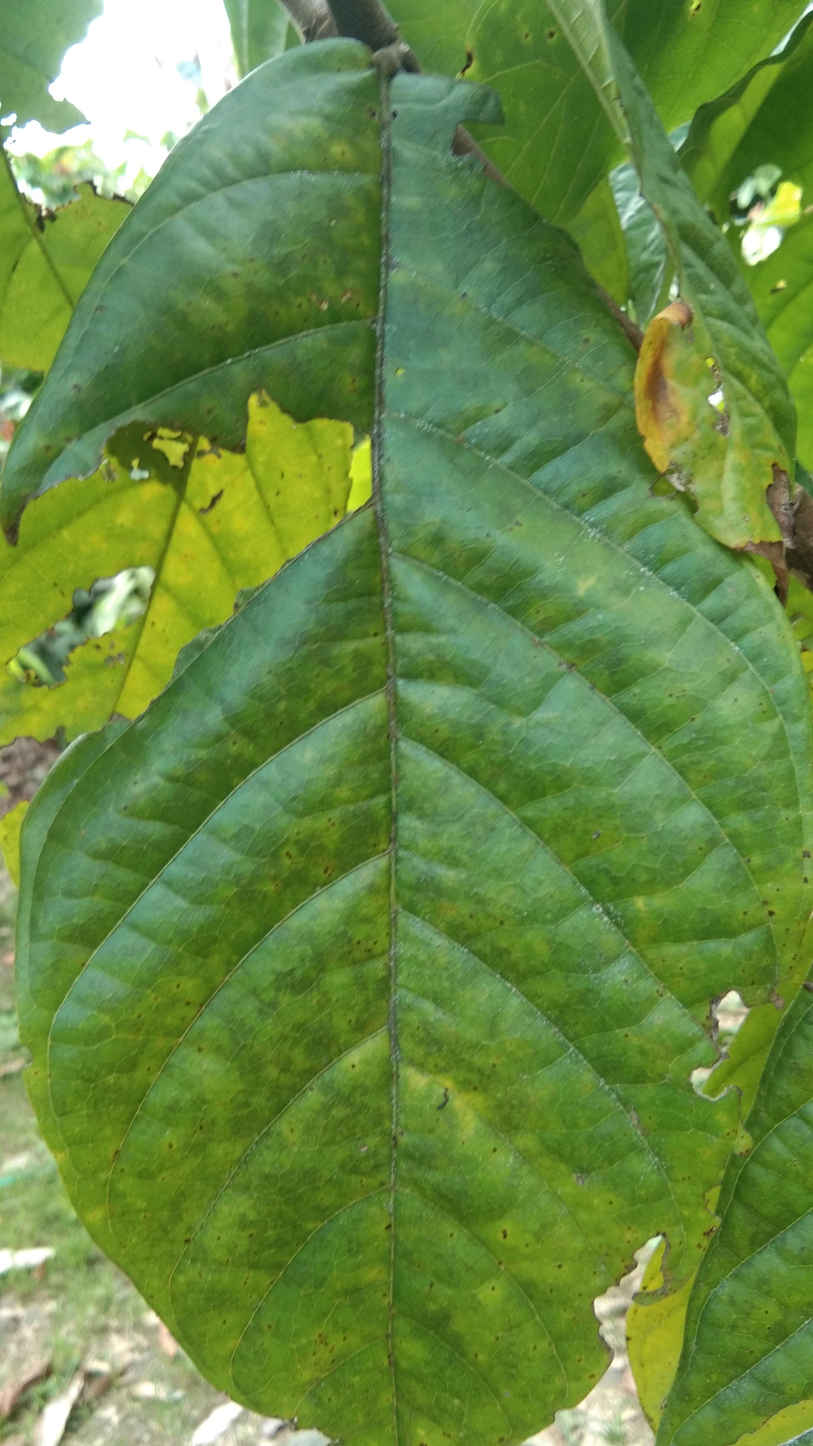deficiencia_potasio: (0, 15, 810, 1446)
